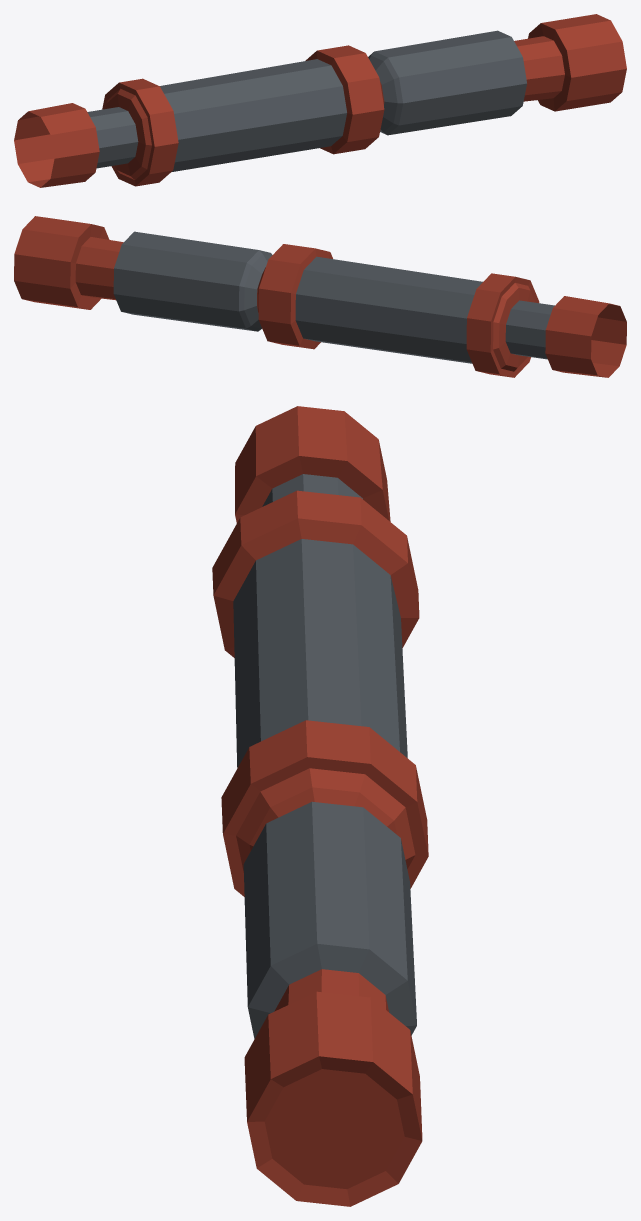
File: Fighter_03_Pipes_02_Red.fbx
The picture shows the model from 3 angles, top to bottom: view 1: azimuth 30°, elevation 25°; view 2: azimuth 150°, elevation 25°; view 3: azimuth 270°, elevation 25°; orthographic projection. The views are drawn at different scales.
Visible parts, largest first — view 1: Fighter_03_Pipes_02_Red; view 2: Fighter_03_Pipes_02_Red; view 3: Fighter_03_Pipes_02_Red.
Part boxes in pixels (bbox=[...]): Fighter_03_Pipes_02_Red: bbox=[14, 14, 626, 187]; Fighter_03_Pipes_02_Red: bbox=[14, 216, 626, 377]; Fighter_03_Pipes_02_Red: bbox=[212, 406, 428, 1206].
Size of the model in its own units: 124 by 26.82 by 20.27.
1 material, 1 textured.
